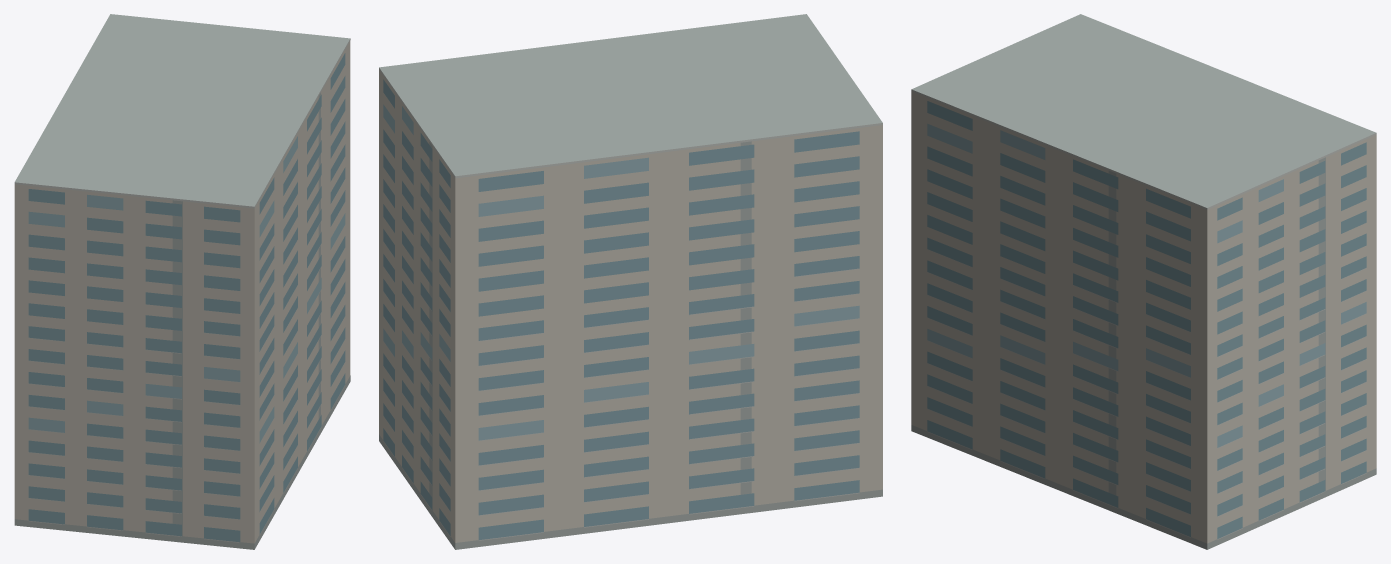
File: residential-2b9652c7-5a63-40b4-af82-cee26b35c956.glb
3 renders of one model, left to right at view 1: azimuth 30°, elevation 25°; view 2: azimuth 150°, elevation 25°; view 3: azimuth 270°, elevation 25°, orthographic. The views are drawn at different scales.
Parts seen in each view (by area): view 1: residential-2b9652c7-5a63-40b4-af82-cee26b35c956.tmp; view 2: residential-2b9652c7-5a63-40b4-af82-cee26b35c956.tmp; view 3: residential-2b9652c7-5a63-40b4-af82-cee26b35c956.tmp.
Part boxes in pixels (x1,y1,x2,y2): residential-2b9652c7-5a63-40b4-af82-cee26b35c956.tmp: (14,14,350,549); residential-2b9652c7-5a63-40b4-af82-cee26b35c956.tmp: (379,14,882,549); residential-2b9652c7-5a63-40b4-af82-cee26b35c956.tmp: (911,14,1376,549).
Size of the model in its own units: 52.37 by 43 by 53.03.
